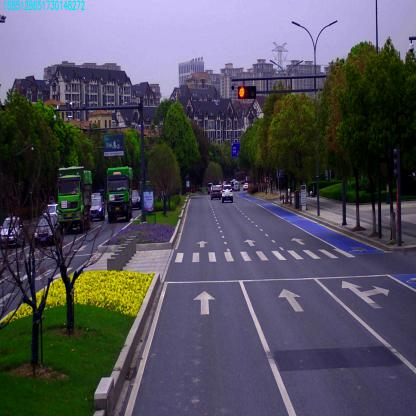traffic-light: (238, 84, 256, 97)
